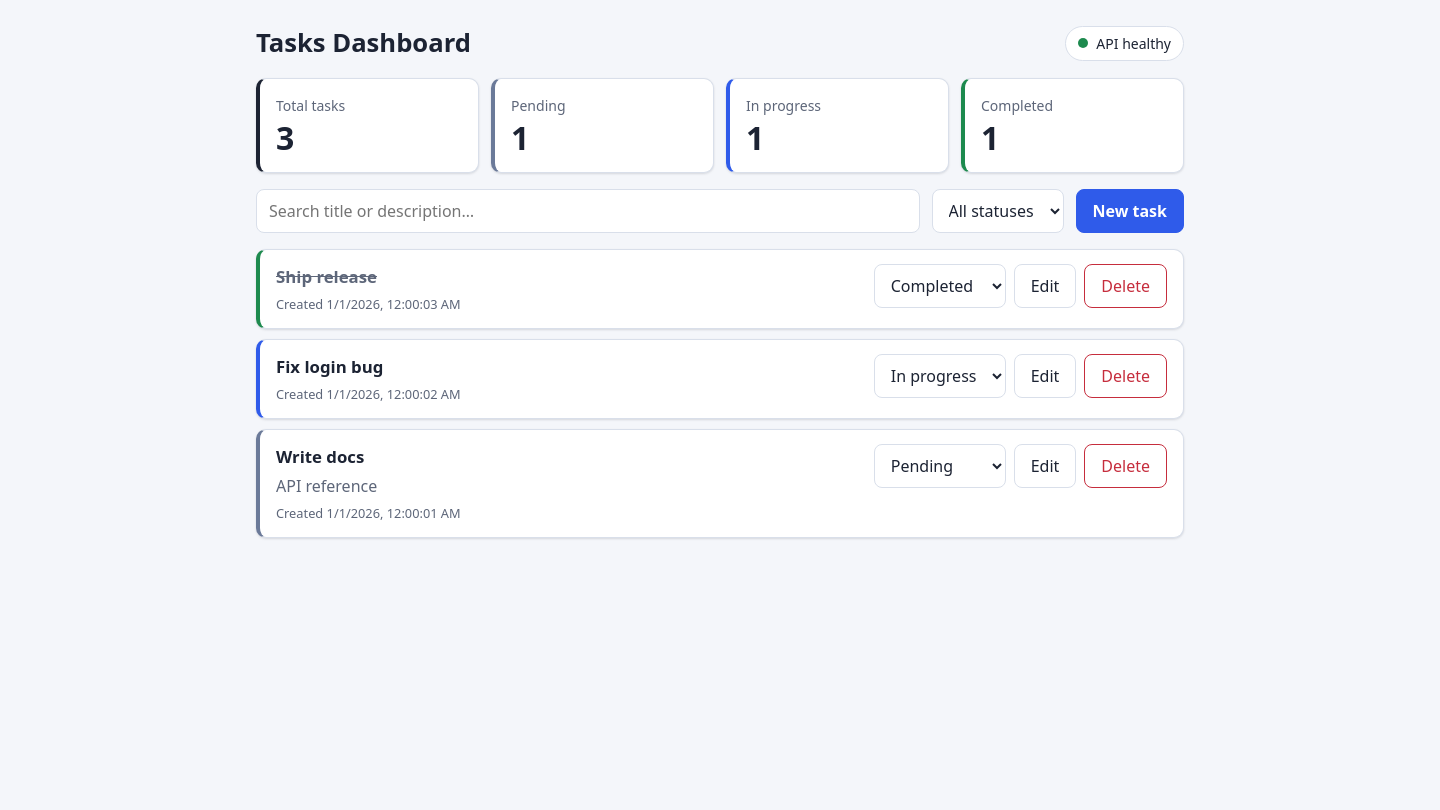
it: create › creates a task and refreshes the list and counters
The width and height of the screenshot is (1440, 810).
Expected: the heading "Write docs" is shown, x1=276 y1=445 x2=364 y2=468
Click the button "New task" at [1130, 211], box x1=1076 y1=189 x2=1184 y2=233
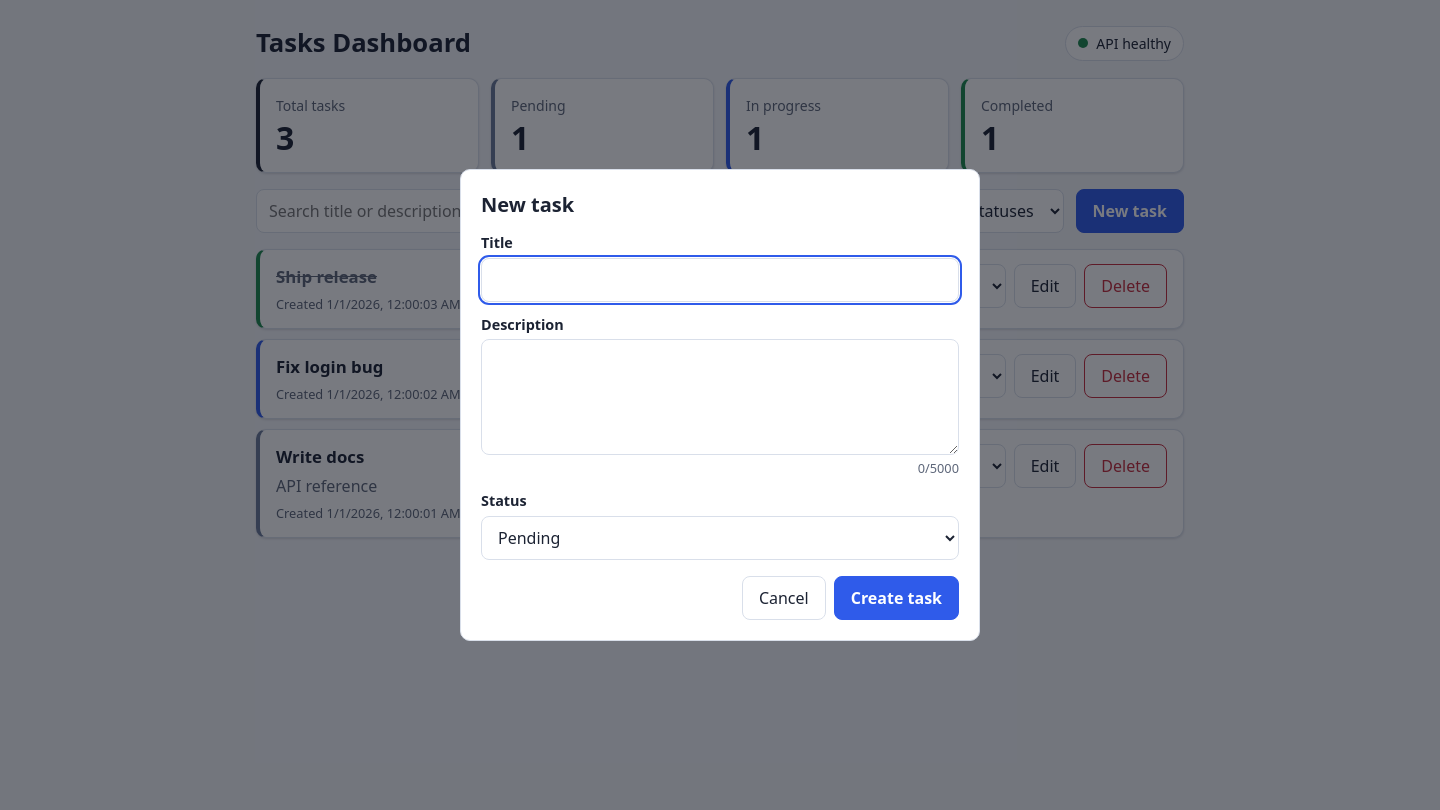
Type "  Plan sprint  " into the field labelled "Title" at [720, 280], box x1=481 y1=258 x2=959 y2=302
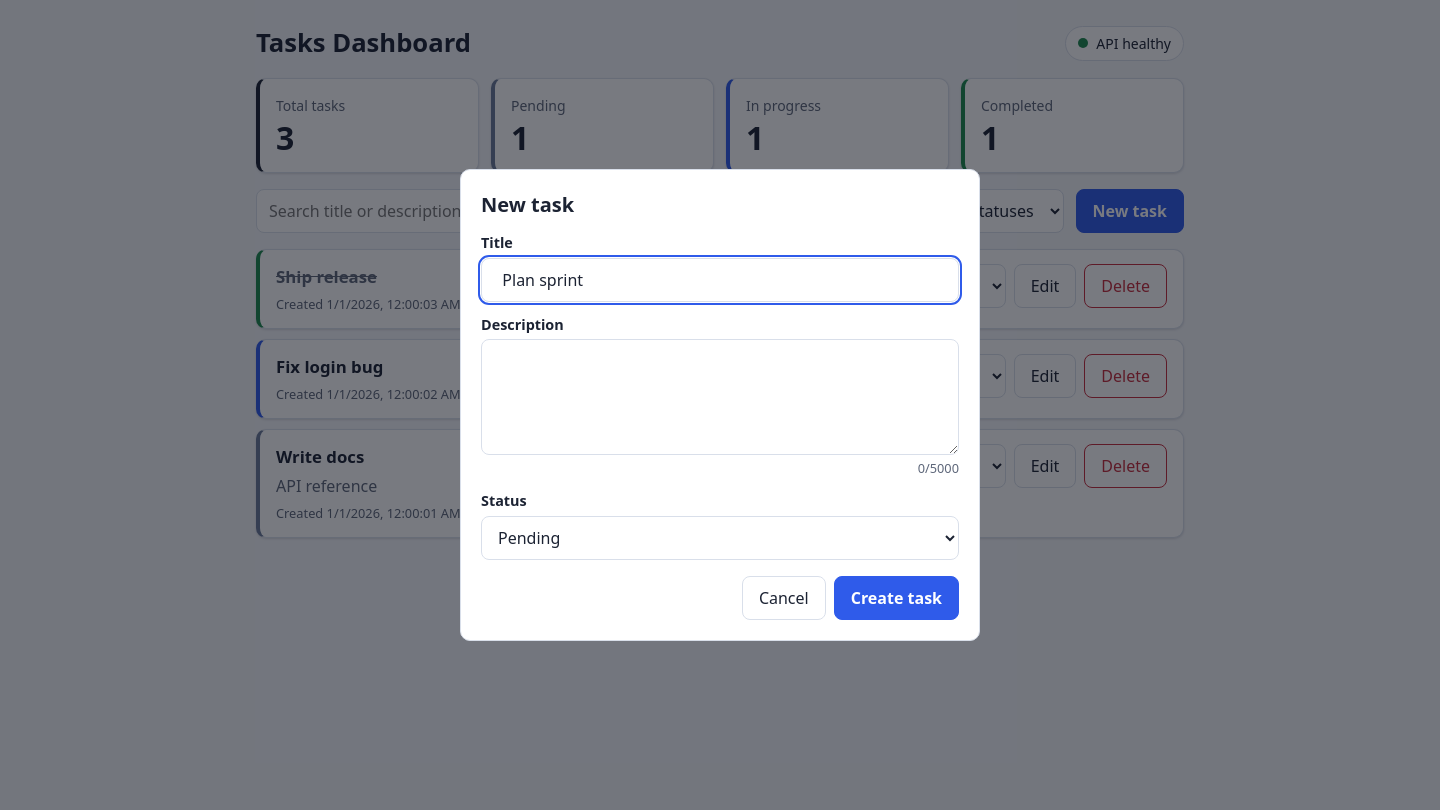
Type "Q1 goals" into the text box labelled "Description" at [720, 397], box x1=481 y1=339 x2=959 y2=455
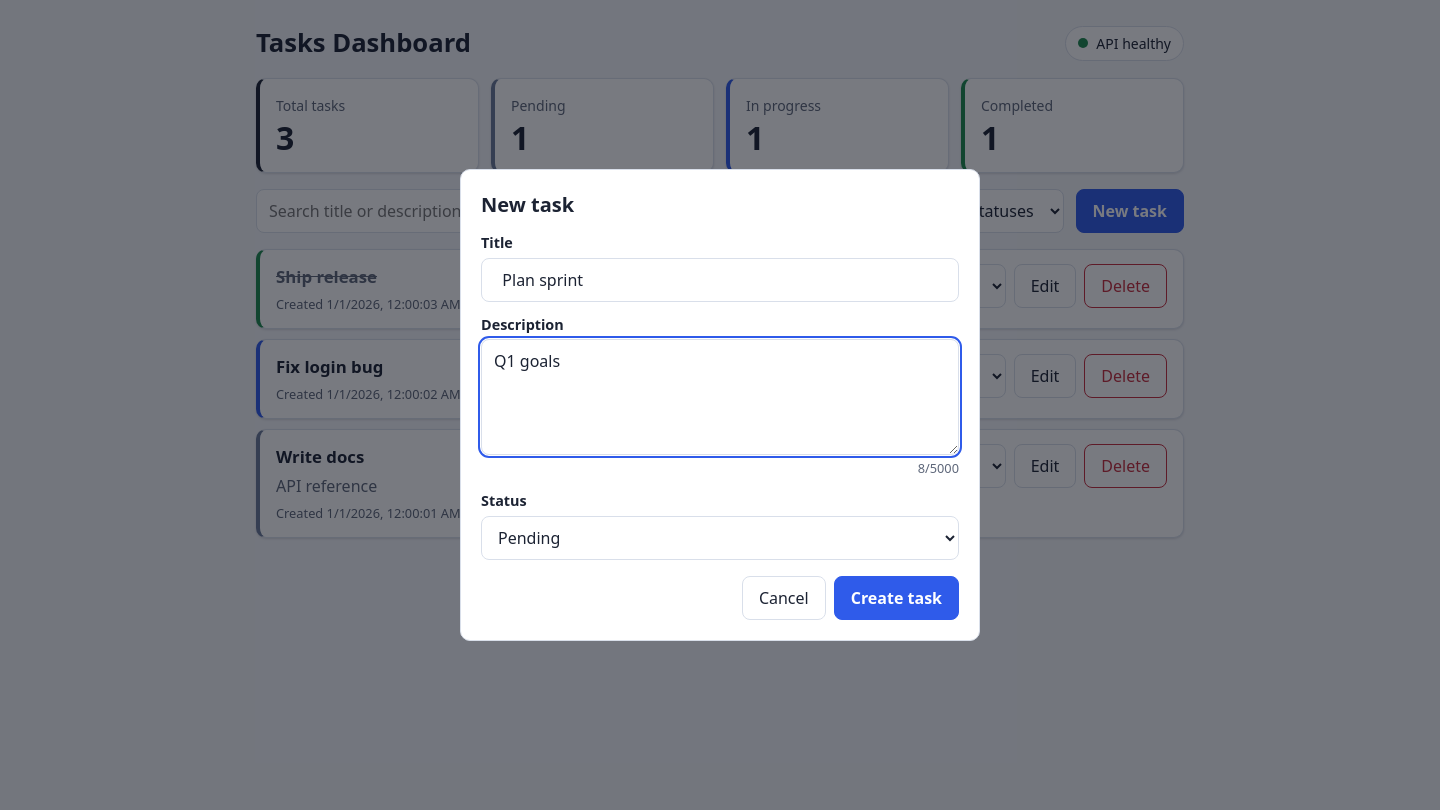
Select "In progress" in the dropdown labelled "Status" at [720, 538], box x1=481 y1=516 x2=959 y2=560
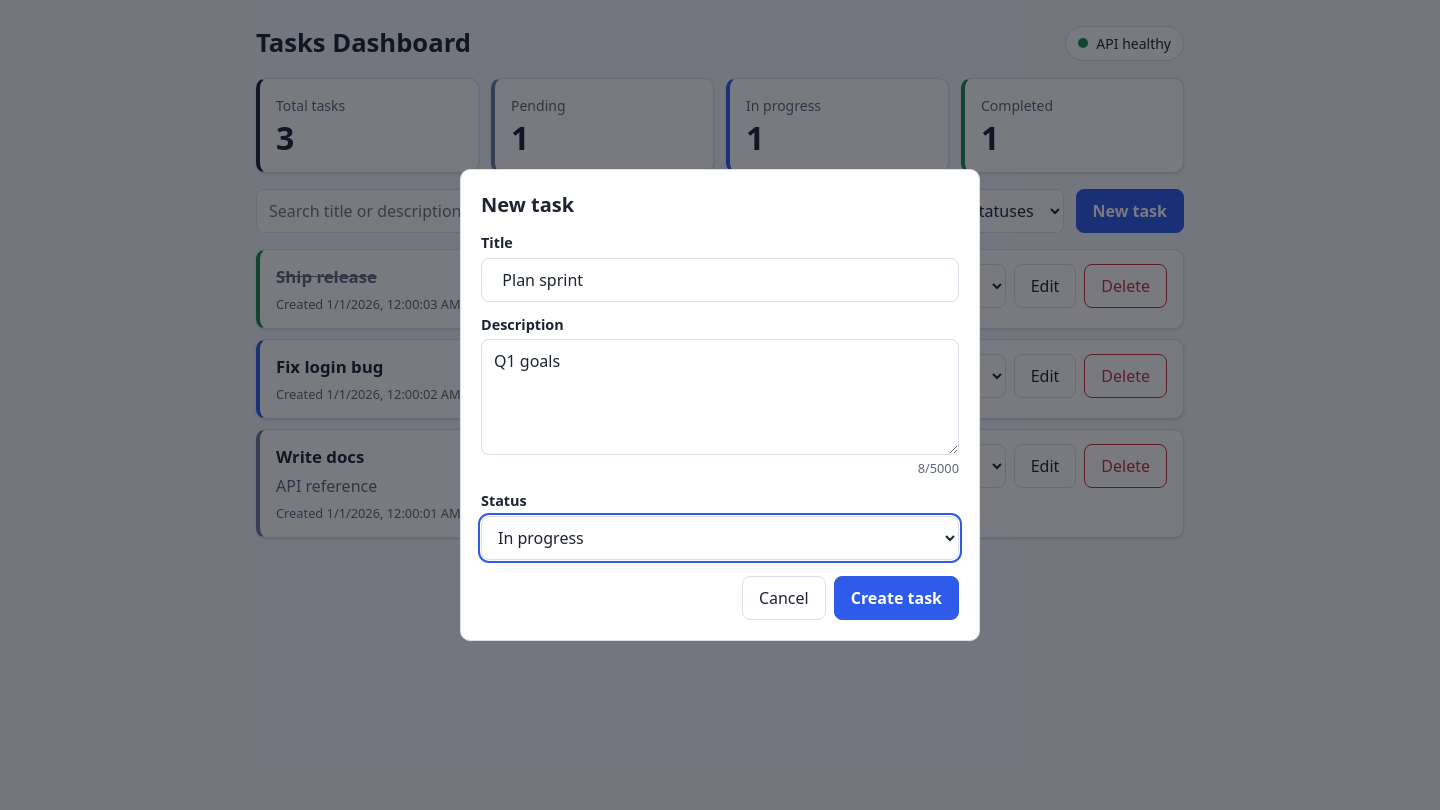
Click the button "Create task" at [896, 598], box x1=834 y1=576 x2=959 y2=620
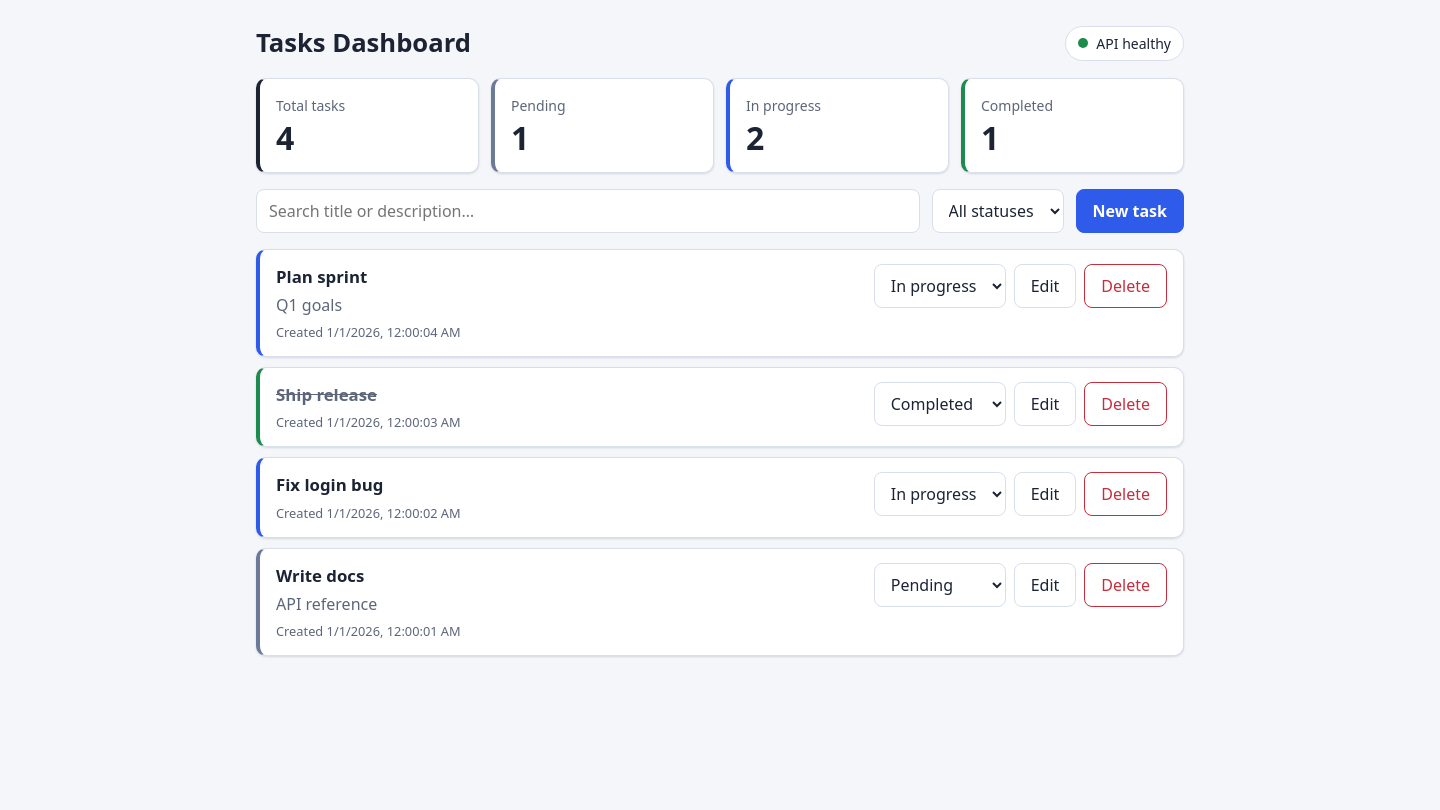
Expected: the heading "Plan sprint" is shown, x1=276 y1=265 x2=367 y2=288
Expected: the dialog is gone
